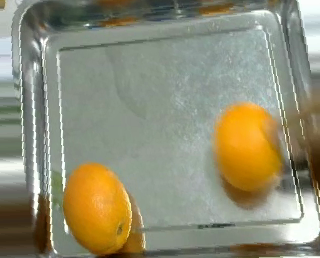Orange: (213, 100, 285, 192), (63, 162, 132, 255)
